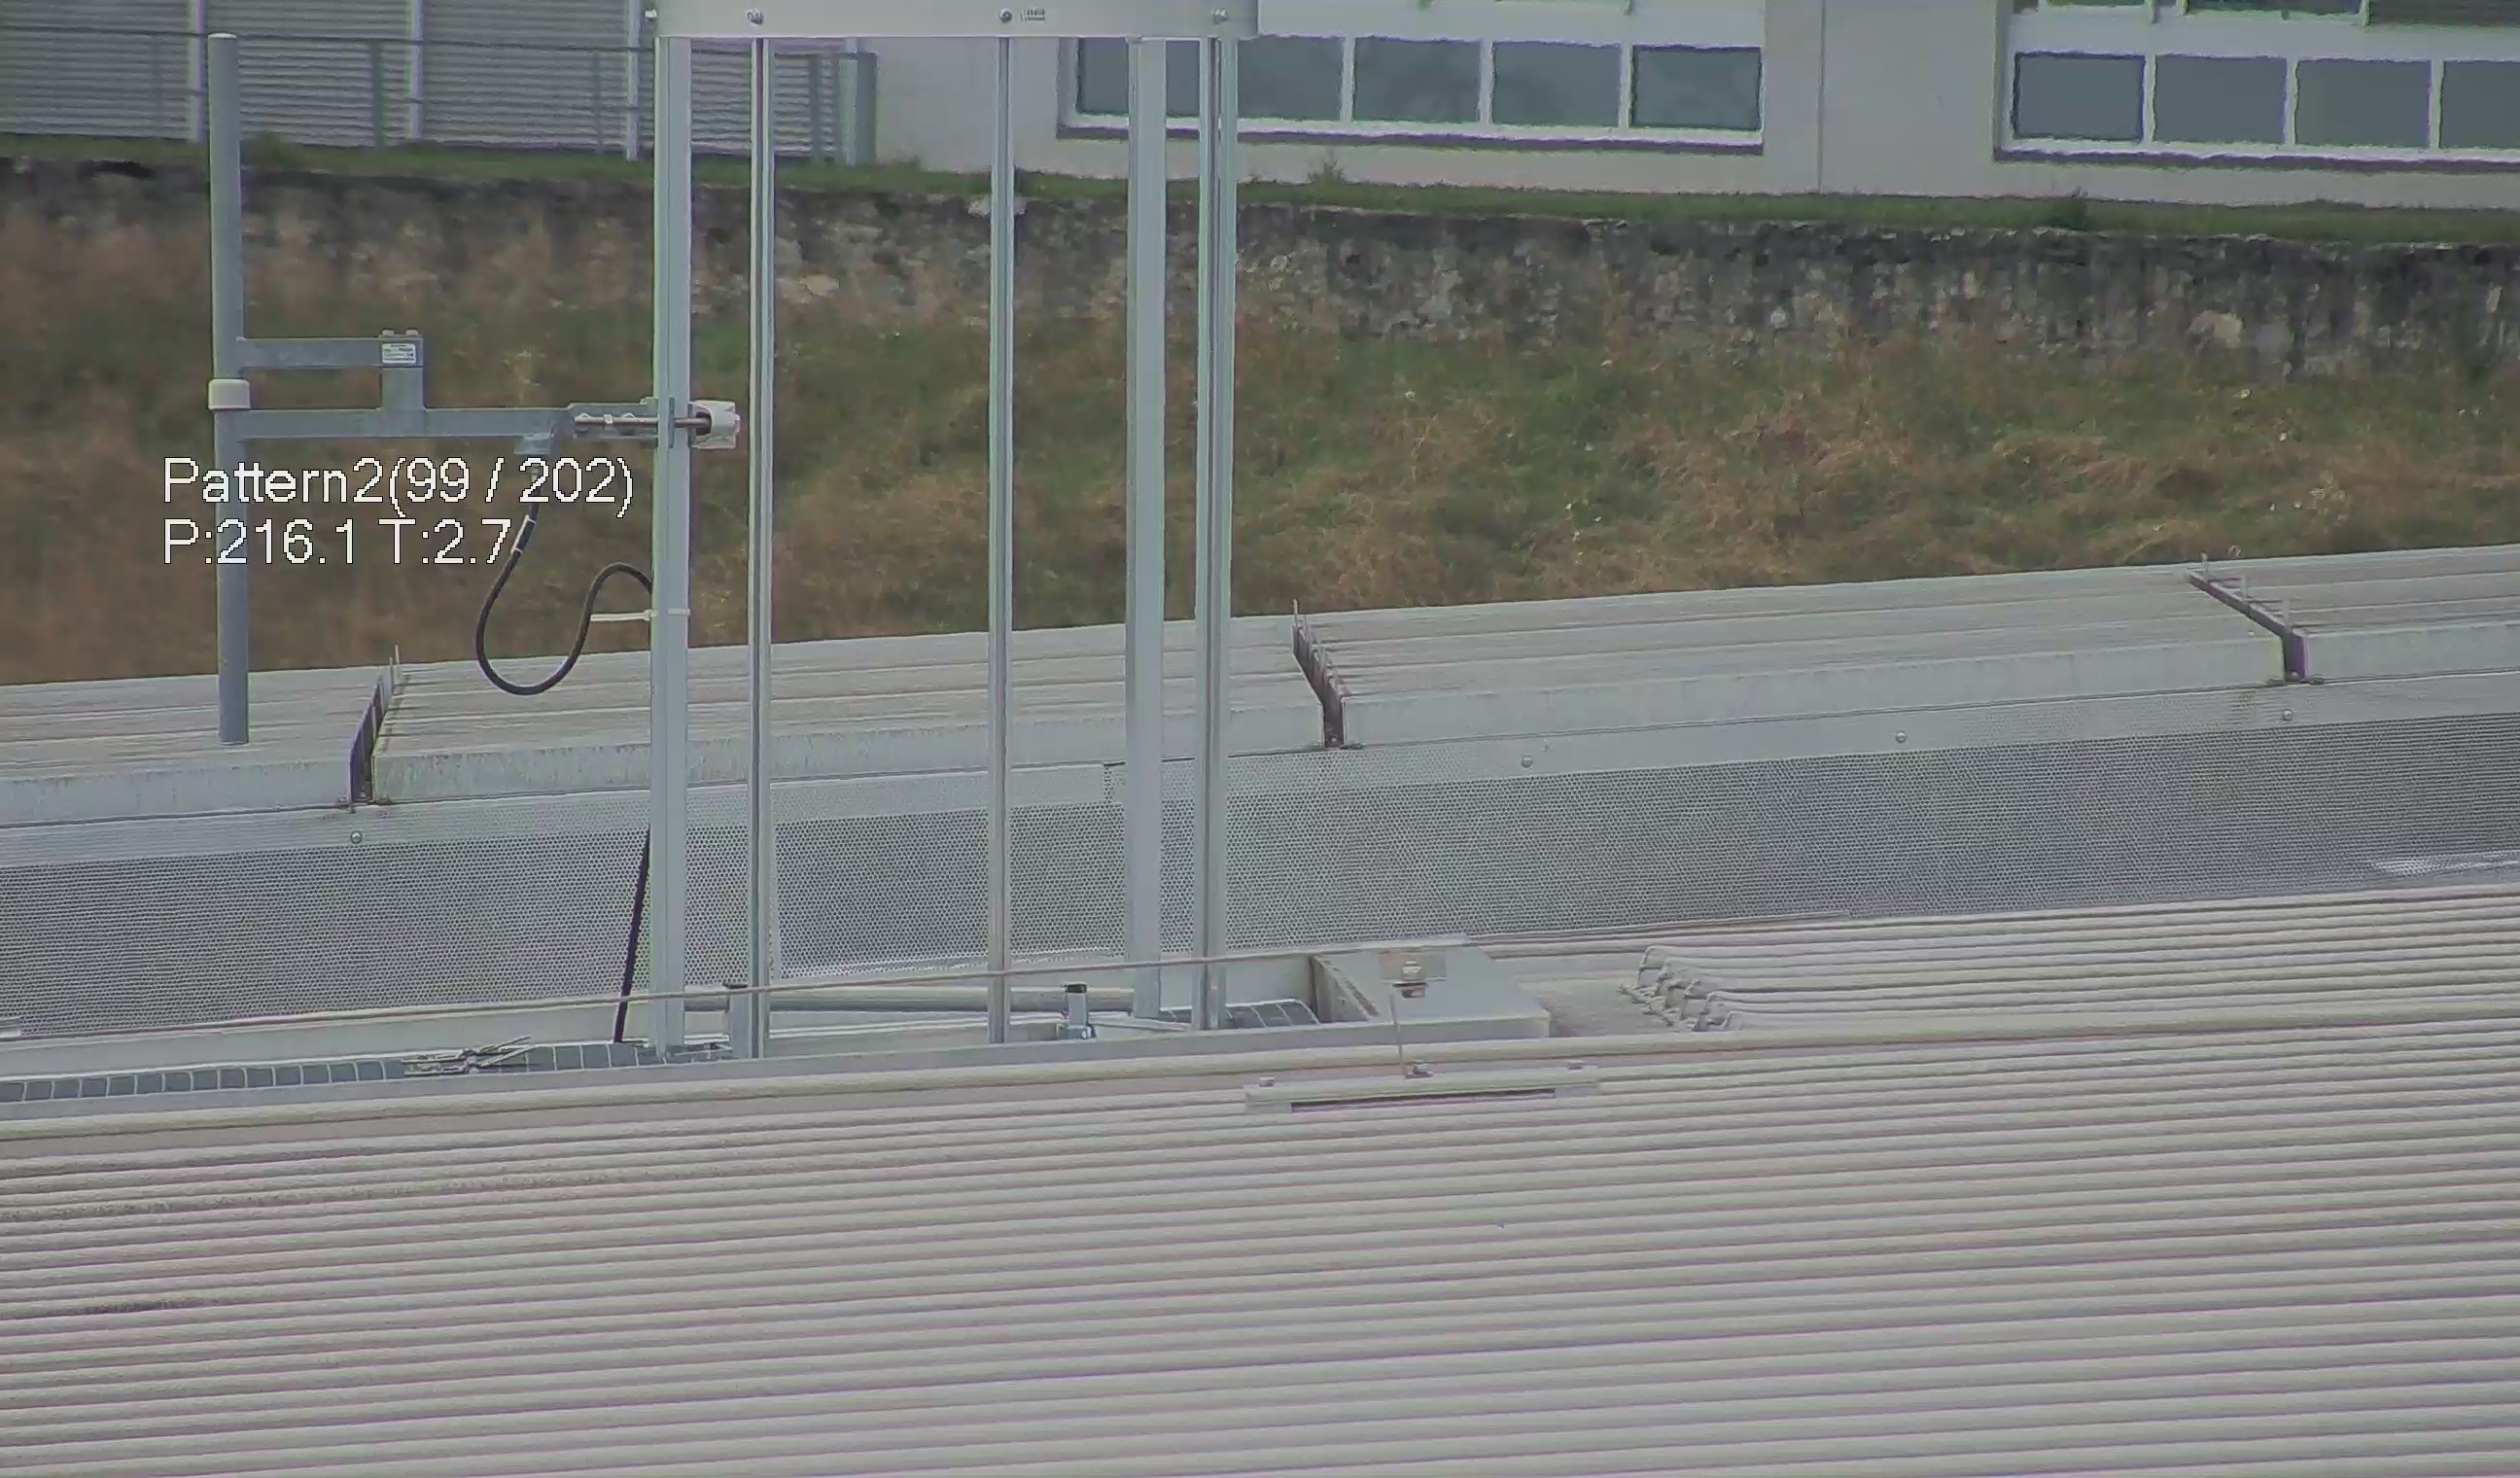Other: (1268, 598, 1370, 760)
